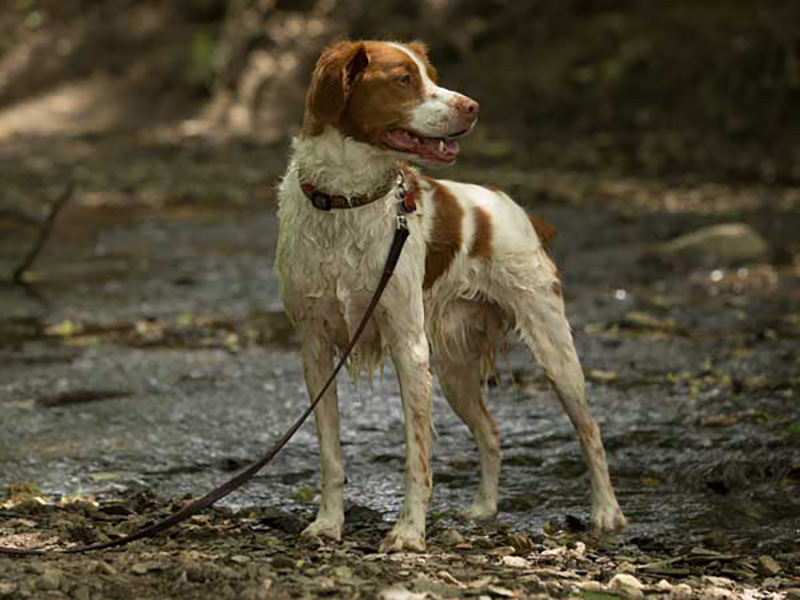cane da caccia: (276, 33, 635, 545)
